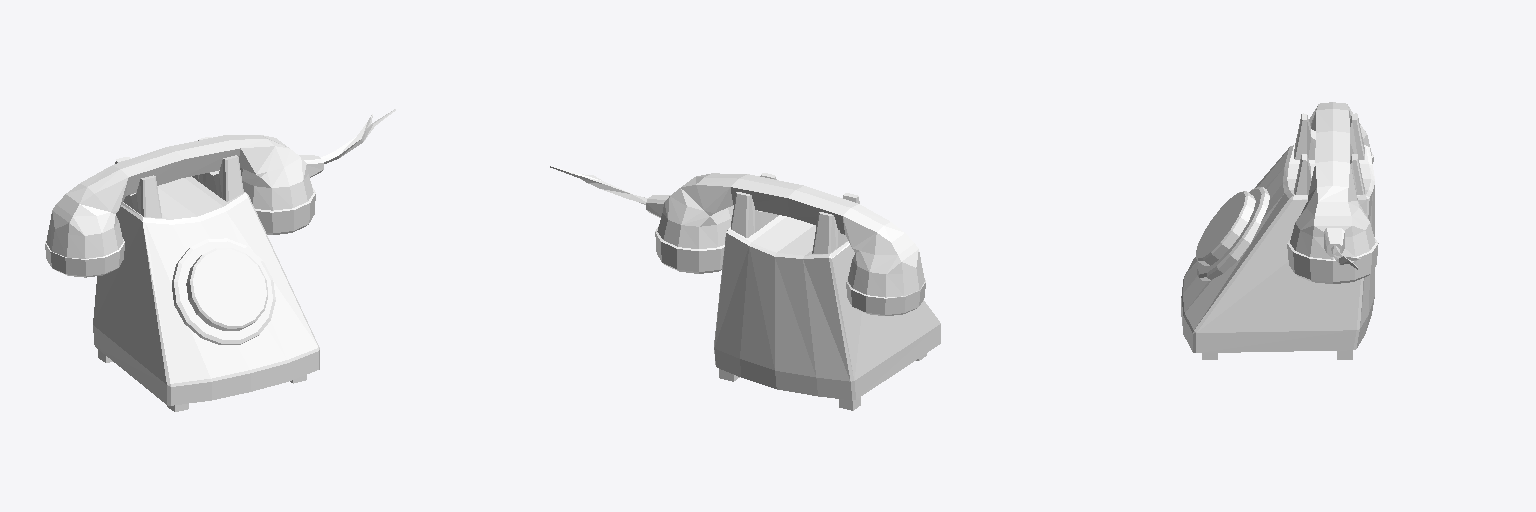
Rendered from Phone.obj.
3 renders of one model, left to right at view 1: azimuth 30°, elevation 25°; view 2: azimuth 150°, elevation 25°; view 3: azimuth 270°, elevation 25°, orthographic.
Visible parts, largest first — view 1: g0; view 2: g0; view 3: g0.
Boxes of the visible parts, <box> form: g0: <box>45,109,395,411</box>; g0: <box>550,166,940,410</box>; g0: <box>1181,102,1378,359</box>.
Size of the model in its own units: 16.82 by 8.84 by 8.02.